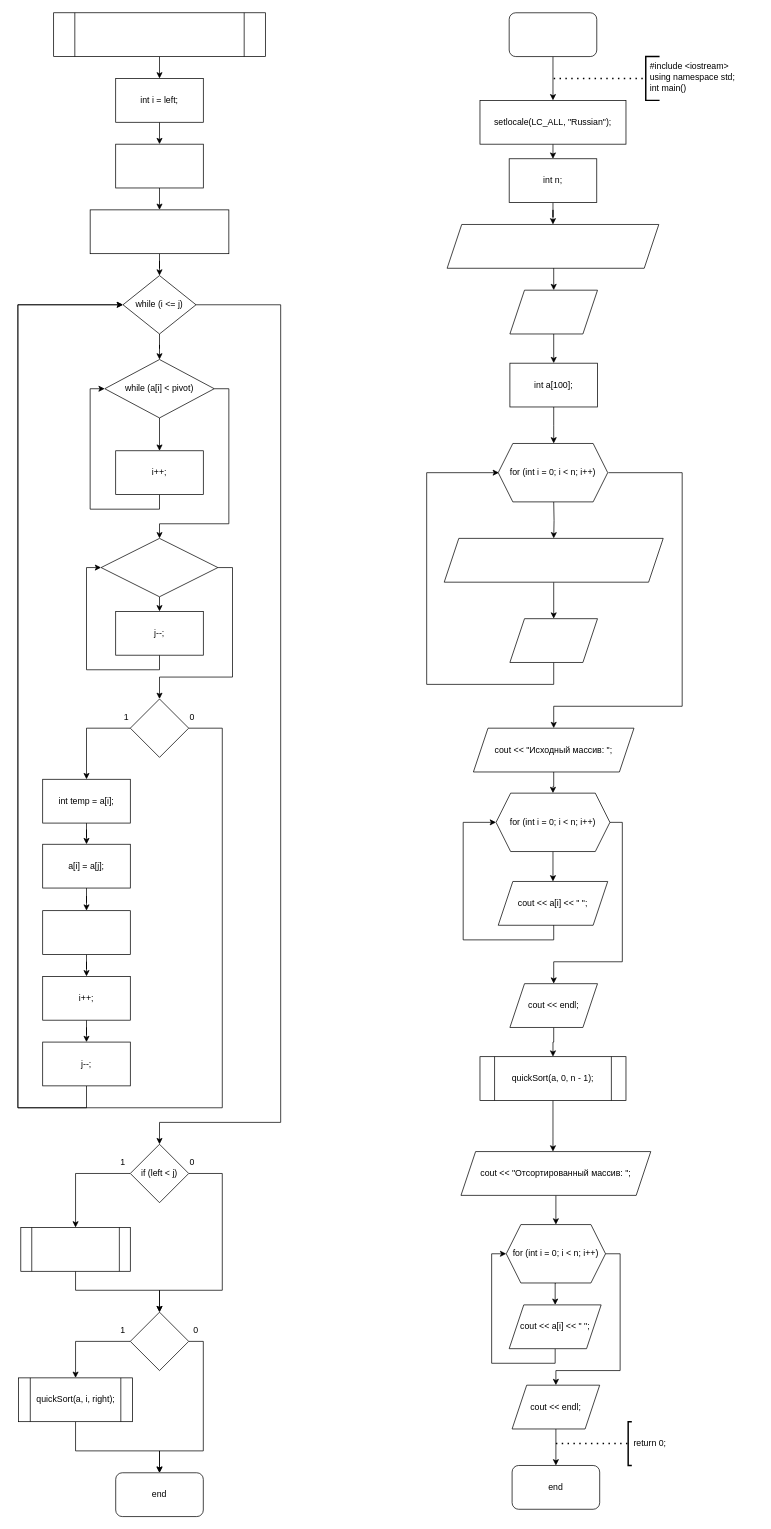
The diagram is 771 pixels wide and 1529 high, and some of its shapes have lost their labels. Each missing label, with the box of its shape:
a[j] = temp;: (42, 910, 130, 954)
cin >> a[i];: (509, 618, 598, 662)
cin >> n;: (509, 289, 598, 334)
cout << "Введите размер массива: ";: (446, 224, 659, 268)
cout << "Введите число номер " << i + 1 << ": ";: (443, 538, 663, 582)
if (i < right): (130, 1311, 189, 1371)
if (i <= j): (130, 698, 189, 757)
int j = right;: (115, 143, 203, 188)
int pivot = a[(left + right) / 2];: (89, 209, 229, 254)
quickSort(a, left, j);: (20, 1227, 130, 1271)
start: (508, 12, 597, 57)
void quickSort(int a[], int left, int right): (53, 12, 265, 57)
while (a[j] > pivot): (100, 538, 218, 597)
